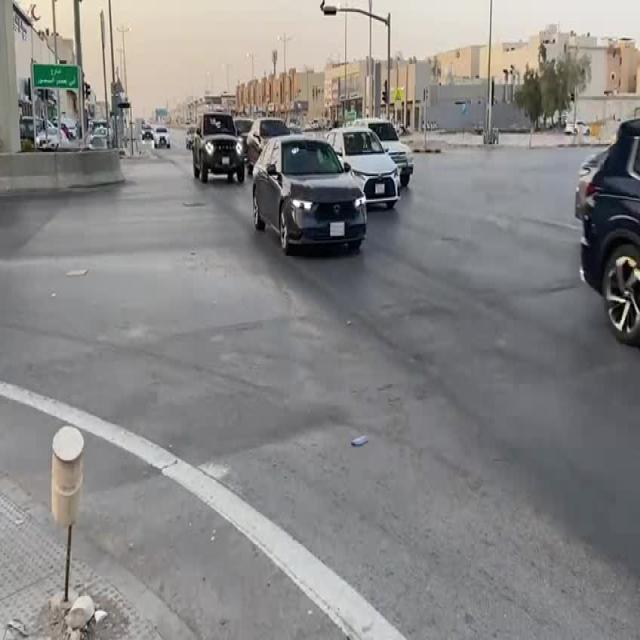bus: (577, 111, 639, 351), (251, 133, 369, 255), (194, 109, 246, 183), (364, 124, 416, 188), (243, 118, 293, 164), (23, 119, 62, 150), (153, 126, 170, 147)
car: (179, 209, 640, 640), (577, 111, 639, 351), (251, 133, 369, 255), (194, 109, 246, 183), (364, 124, 416, 188), (243, 118, 293, 164), (23, 119, 62, 150), (153, 126, 170, 147)
lanes: (179, 209, 640, 640), (226, 209, 639, 634)
lanes2: (226, 209, 639, 634), (260, 205, 640, 474)
lanes3: (260, 205, 640, 474), (286, 201, 640, 404)
lanes4: (286, 201, 640, 404), (327, 192, 640, 313)
lanes5: (327, 192, 640, 313)
